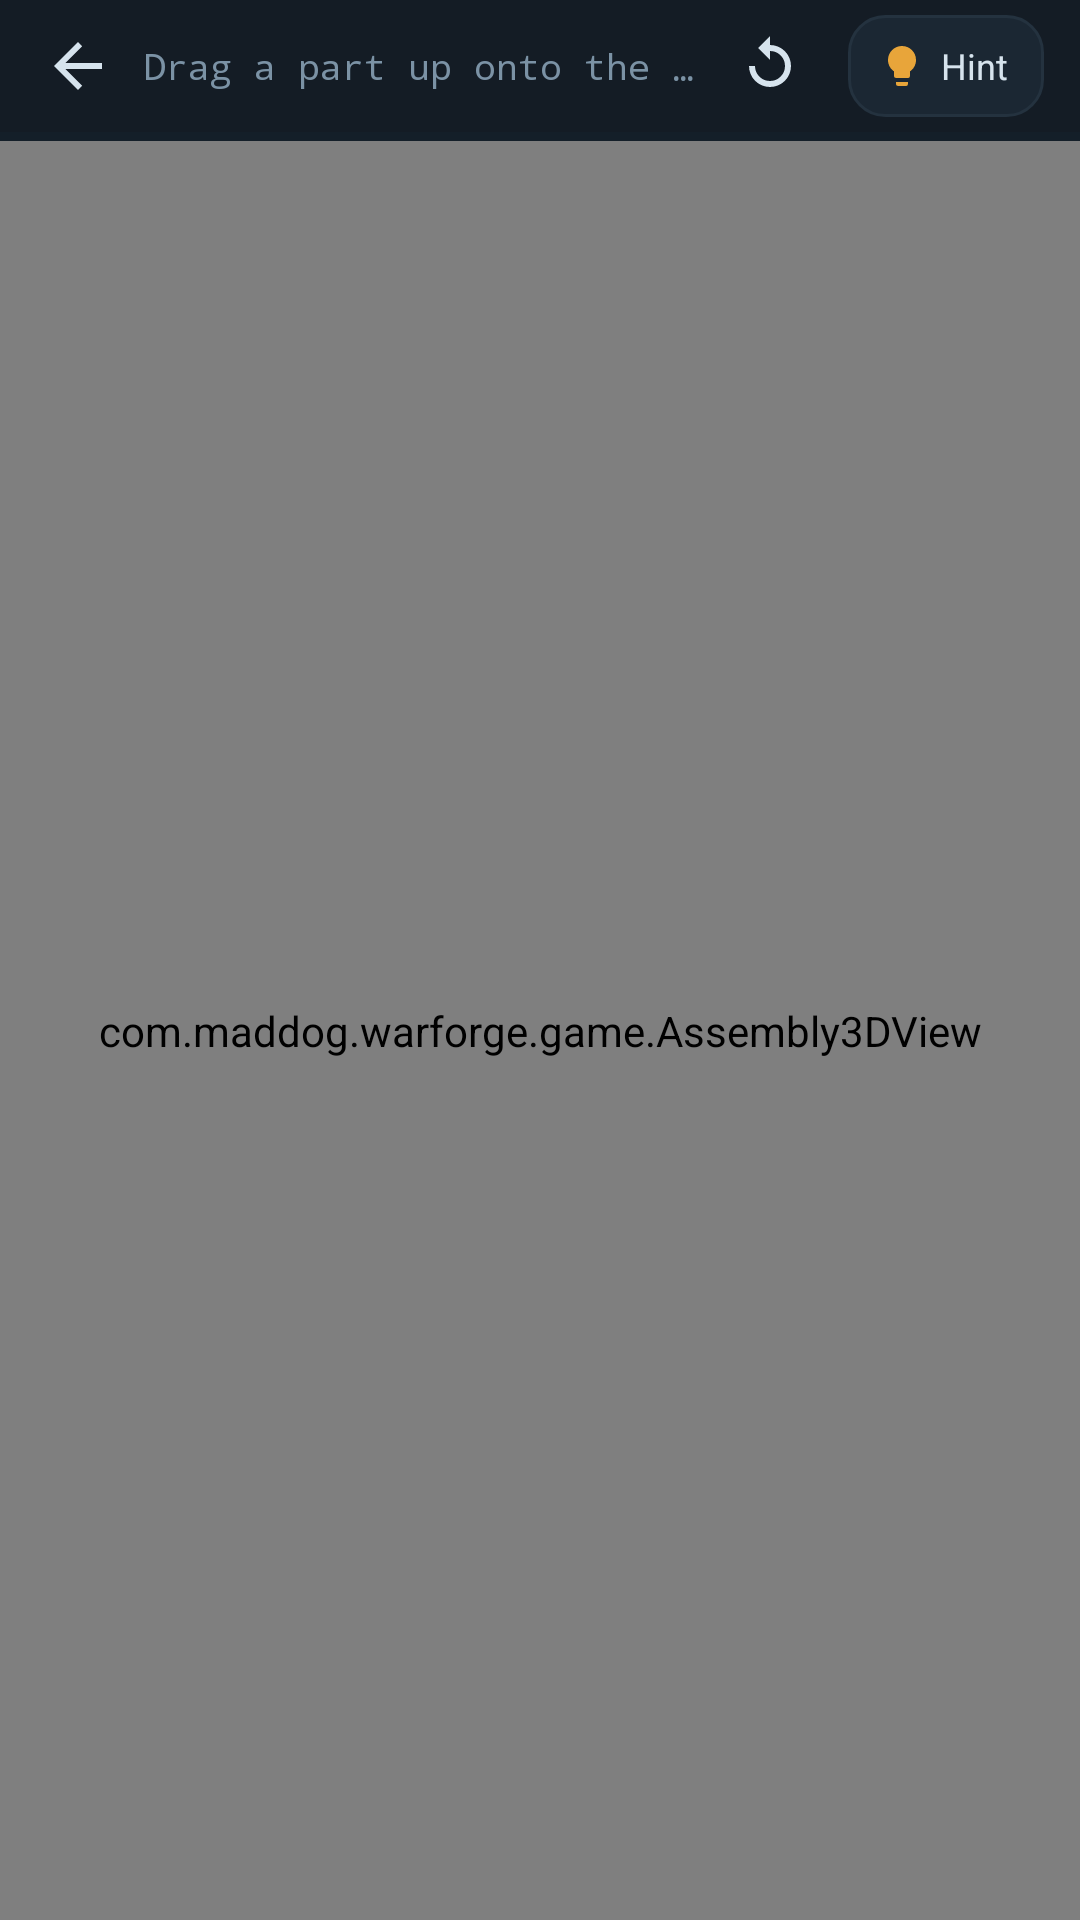

Named icons in this screenshot (1080px x 1920px) and their centers, [x,y]:
Restart: [770,61]
